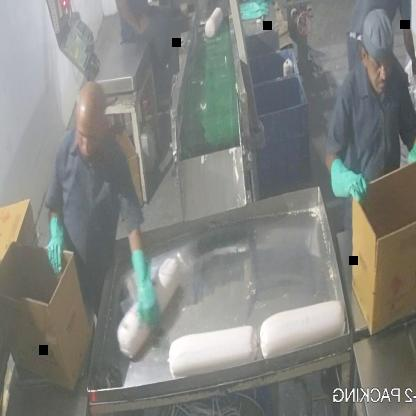glove: (121, 248, 170, 344), (43, 195, 71, 286)
no_glove: (108, 0, 156, 40)
